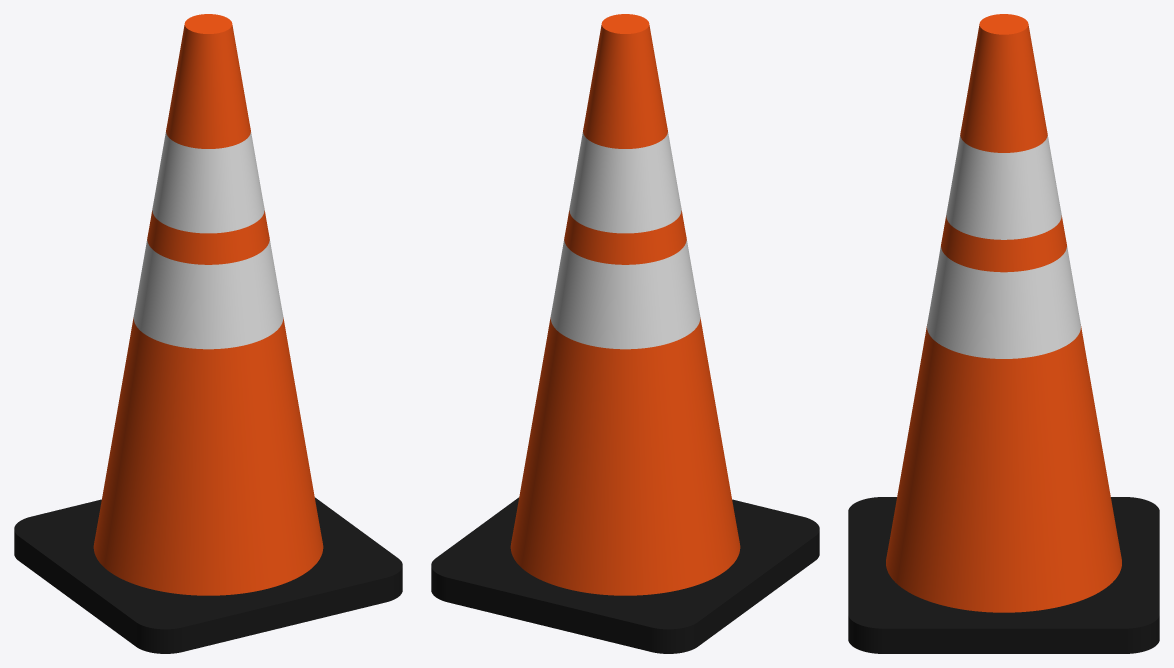
The model's file is Traffic_Cone_28in.glb.
3 views of the same model, side by side, from view 1: azimuth 30°, elevation 25°; view 2: azimuth 150°, elevation 25°; view 3: azimuth 270°, elevation 25° (orthographic). The views are drawn at different scales.
Visible parts, largest first — view 1: cone_0_f8f4a4, base_8f4cd8, cone_1_294fc7, cone_3_077b77, cone_4_fd0e94, base_25abe2, cone_2_ecf0cc, base_9dc78c, base_676fb5, cone_4_16ebf9; view 2: cone_0_f8f4a4, base_8f4cd8, cone_1_294fc7, cone_3_077b77, cone_4_fd0e94, base_0e2d50, cone_2_ecf0cc, base_9dc78c, base_52cdfc, cone_4_16ebf9; view 3: cone_0_f8f4a4, base_8f4cd8, cone_1_294fc7, cone_3_077b77, cone_4_fd0e94, base_a2a5b8, cone_2_ecf0cc, base_b0f7fe, base_fd2271, cone_4_16ebf9.
Part boxes in pixels (<box>): cone_0_f8f4a4: <box>93,317,323,595</box>; base_8f4cd8: <box>14,497,402,629</box>; cone_1_294fc7: <box>133,239,283,349</box>; cone_3_077b77: <box>152,132,264,233</box>; cone_4_fd0e94: <box>166,25,250,148</box>; base_25abe2: <box>182,578,385,651</box>; cone_2_ecf0cc: <box>147,210,269,264</box>; base_9dc78c: <box>18,536,135,646</box>; base_676fb5: <box>136,622,182,653</box>; cone_4_16ebf9: <box>184,14,232,33</box>; cone_0_f8f4a4: <box>510,317,740,595</box>; base_8f4cd8: <box>431,497,819,629</box>; cone_1_294fc7: <box>550,239,700,349</box>; cone_3_077b77: <box>569,132,681,233</box>; cone_4_fd0e94: <box>583,25,667,148</box>; base_0e2d50: <box>448,578,651,651</box>; cone_2_ecf0cc: <box>564,210,686,264</box>; base_9dc78c: <box>698,536,815,646</box>; base_52cdfc: <box>651,622,697,653</box>; cone_4_16ebf9: <box>601,14,649,33</box>; cone_0_f8f4a4: <box>886,326,1121,612</box>; base_8f4cd8: <box>848,497,1159,628</box>; cone_1_294fc7: <box>927,246,1080,358</box>; cone_3_077b77: <box>946,135,1061,239</box>; cone_4_fd0e94: <box>960,24,1047,152</box>; base_a2a5b8: <box>883,628,1124,653</box>; cone_2_ecf0cc: <box>941,215,1066,272</box>; base_b0f7fe: <box>848,616,883,653</box>; base_fd2271: <box>1124,616,1159,653</box>; cone_4_16ebf9: <box>979,14,1028,34</box>.
Bounding box in the file's own units: 0.356 × 0.711 × 0.356.
